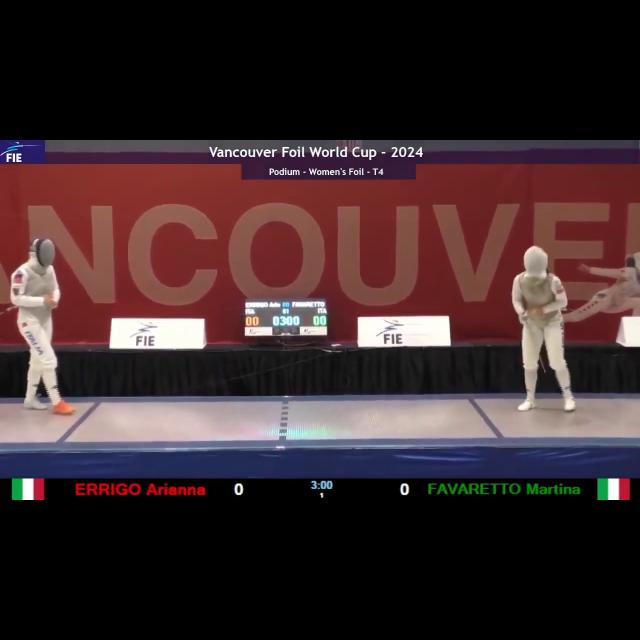blade: (520, 310, 548, 376)
